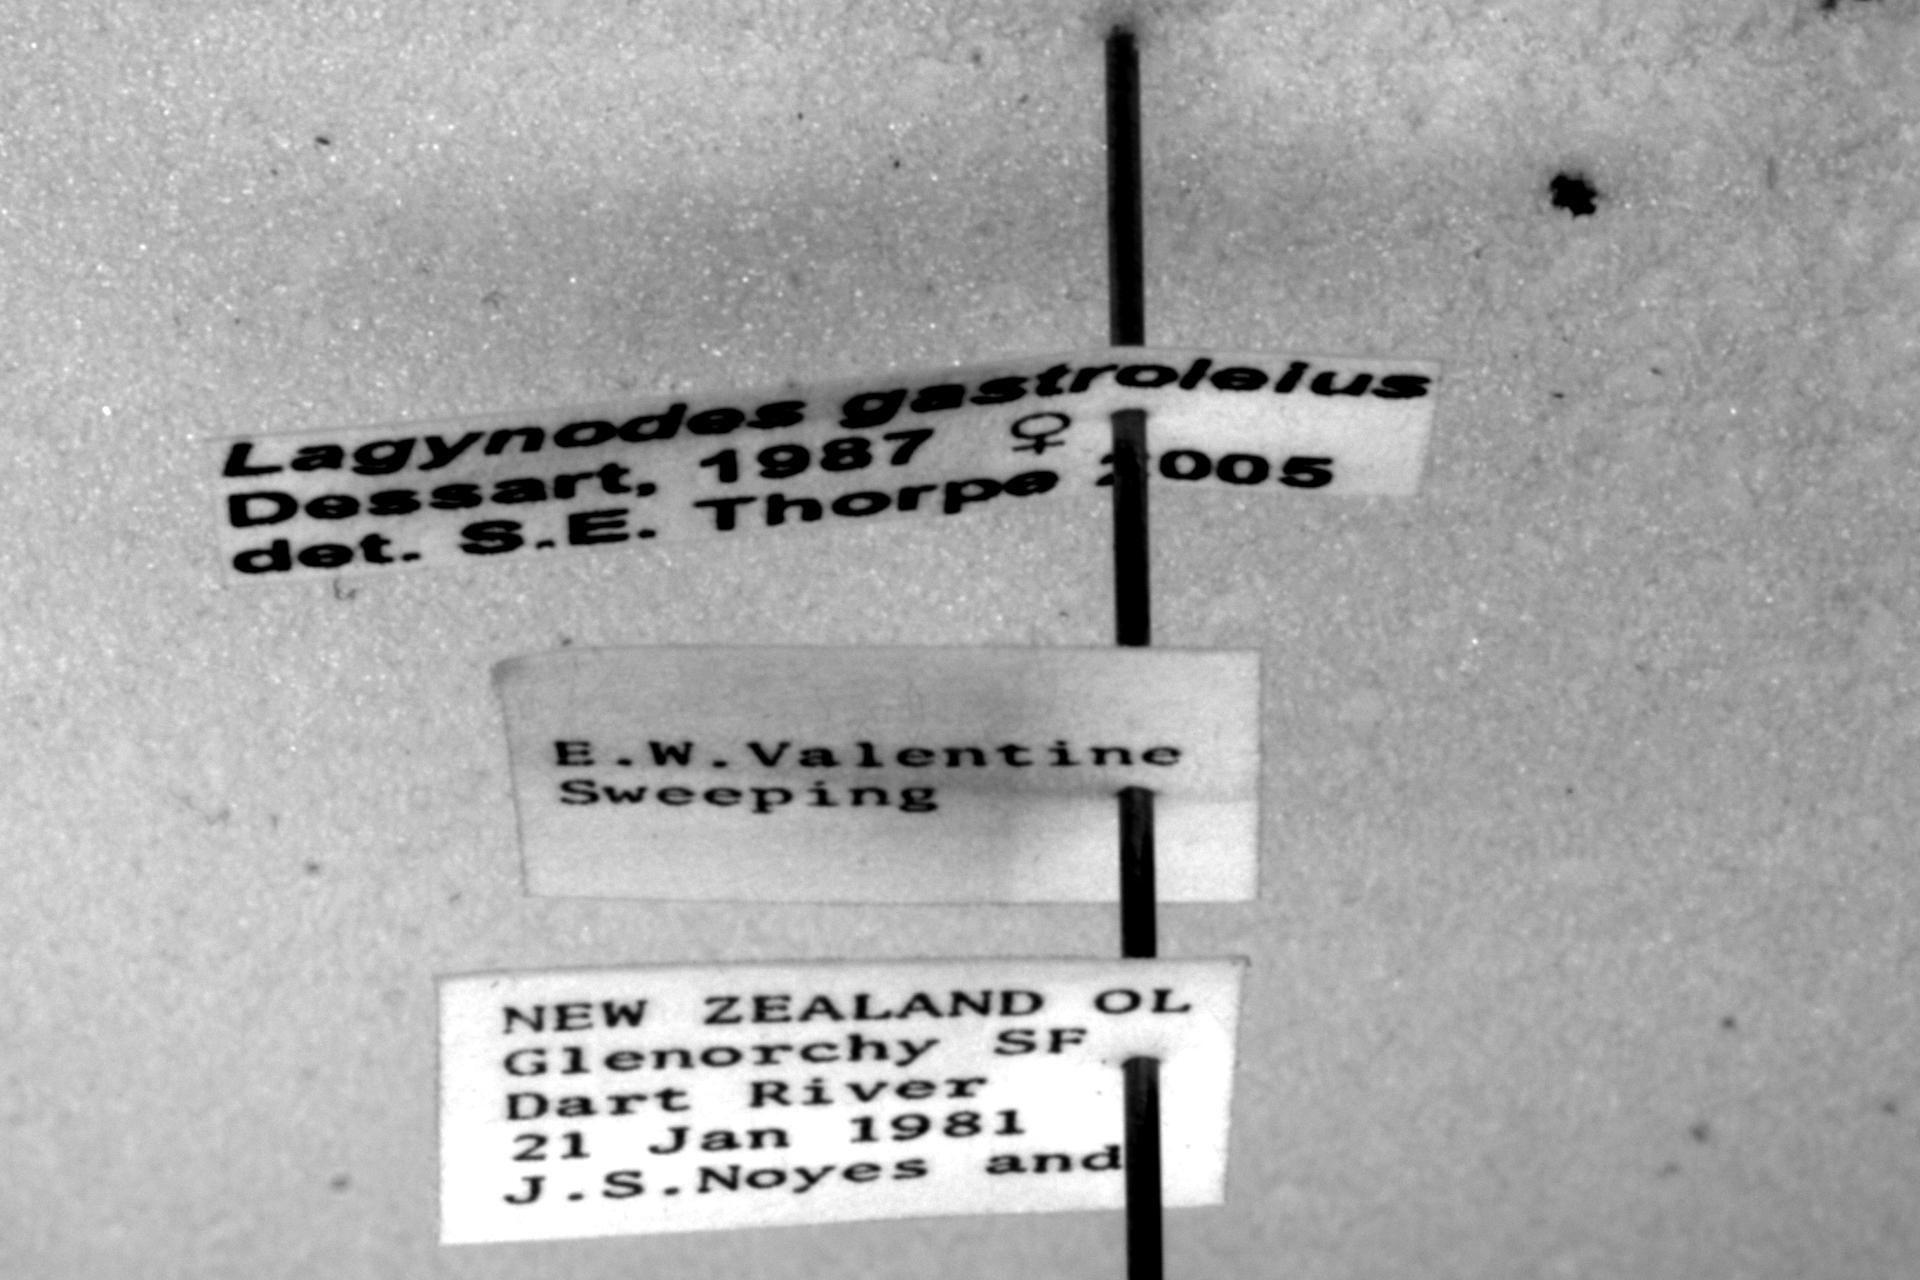typed_label: (210, 349, 1440, 581), (439, 956, 1245, 1245), (495, 645, 1260, 904)
